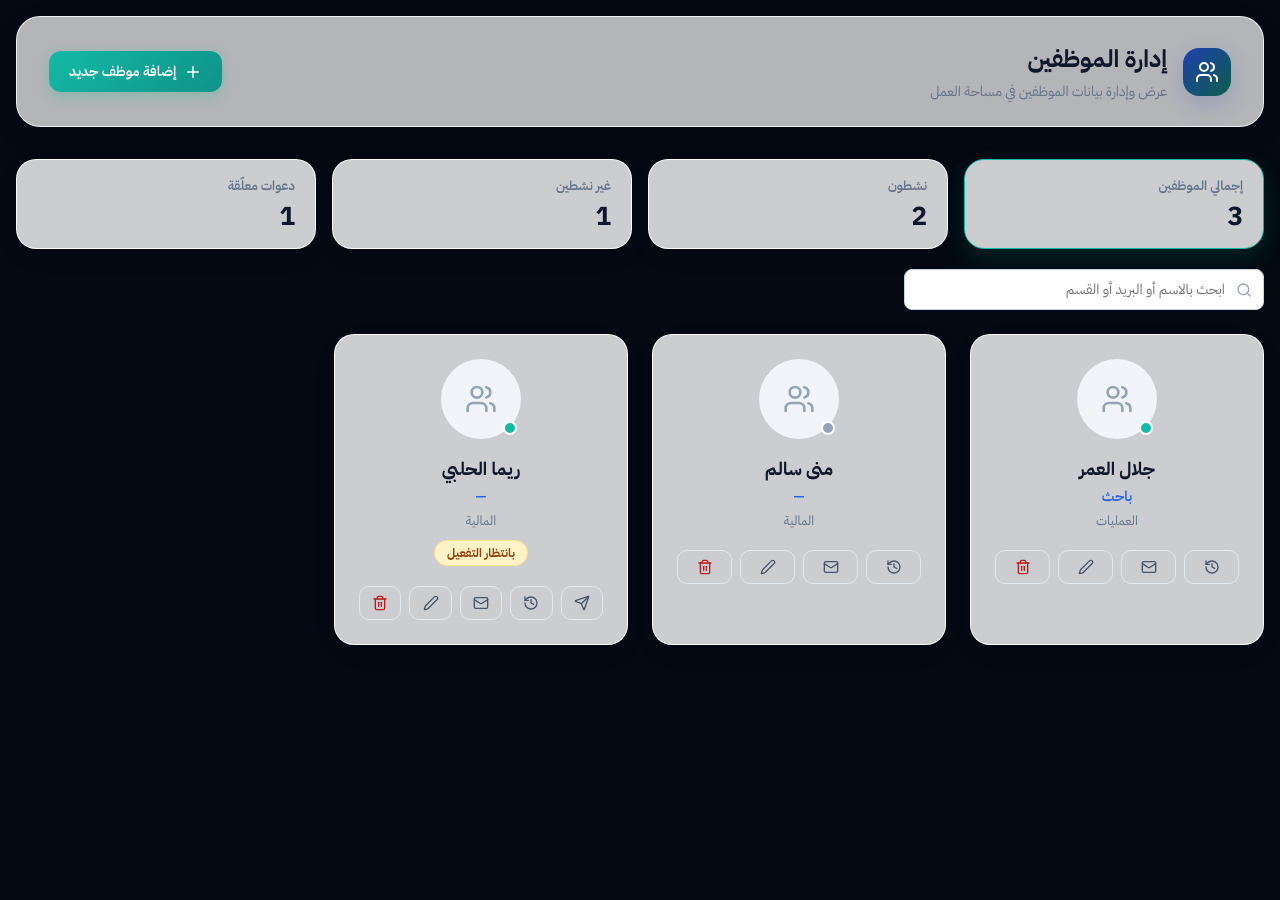
employees: figures and filters › searches by name, e-mail or department and offers a way back when nothing matches
Expected: the heading "جلال العمر" is shown, [1079,455,1155,482]
Type "المالية" into the search field named "بحث في الموظفين" at (1084, 290), box [904,269,1264,310]
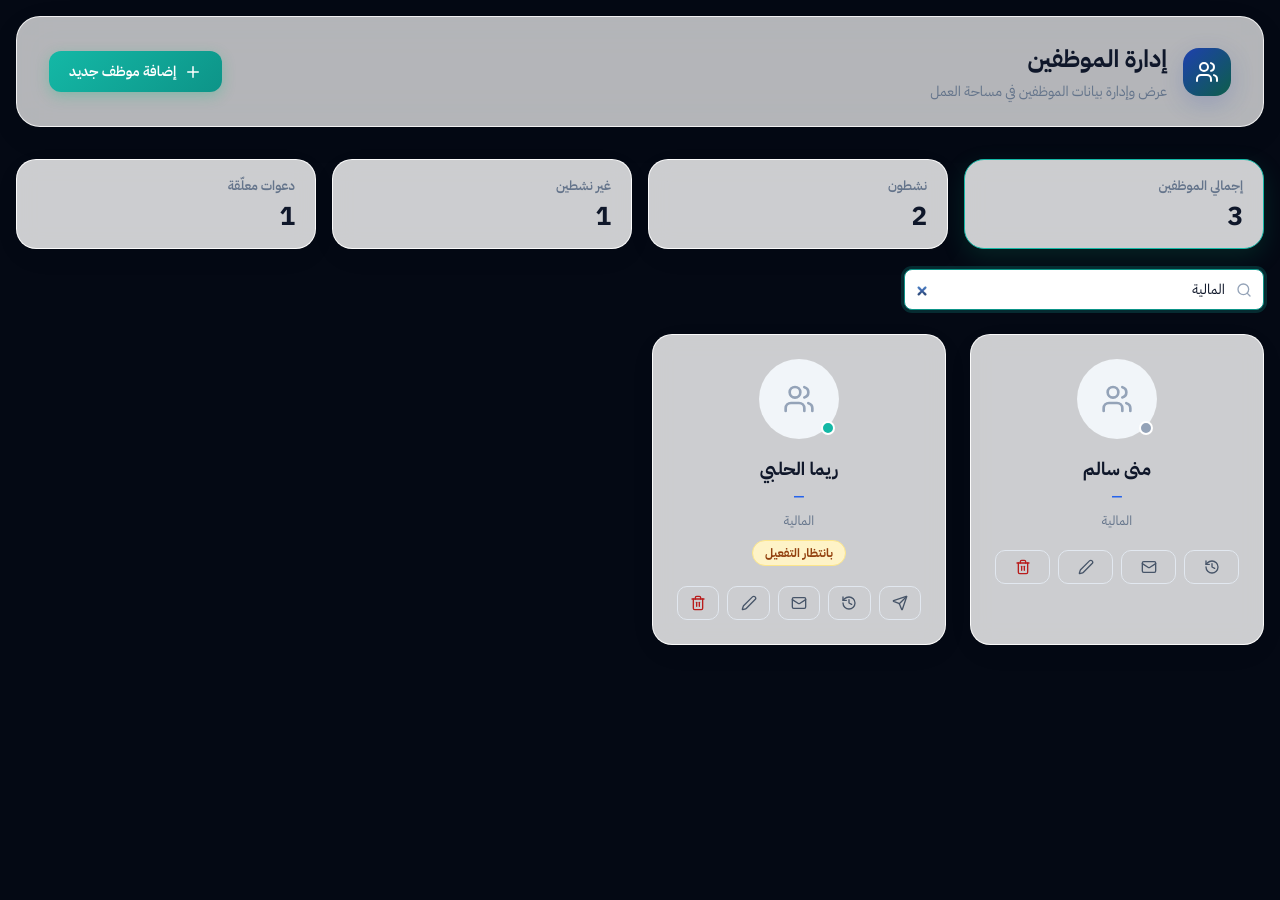
Expected: the heading "منى سالم" is shown, [1083,455,1151,482]
Expected: the heading "جلال العمر" is gone
Replace the text in the search field named "بحث في الموظفين" with "لا أحد" at (1084, 290), box [904,269,1264,310]
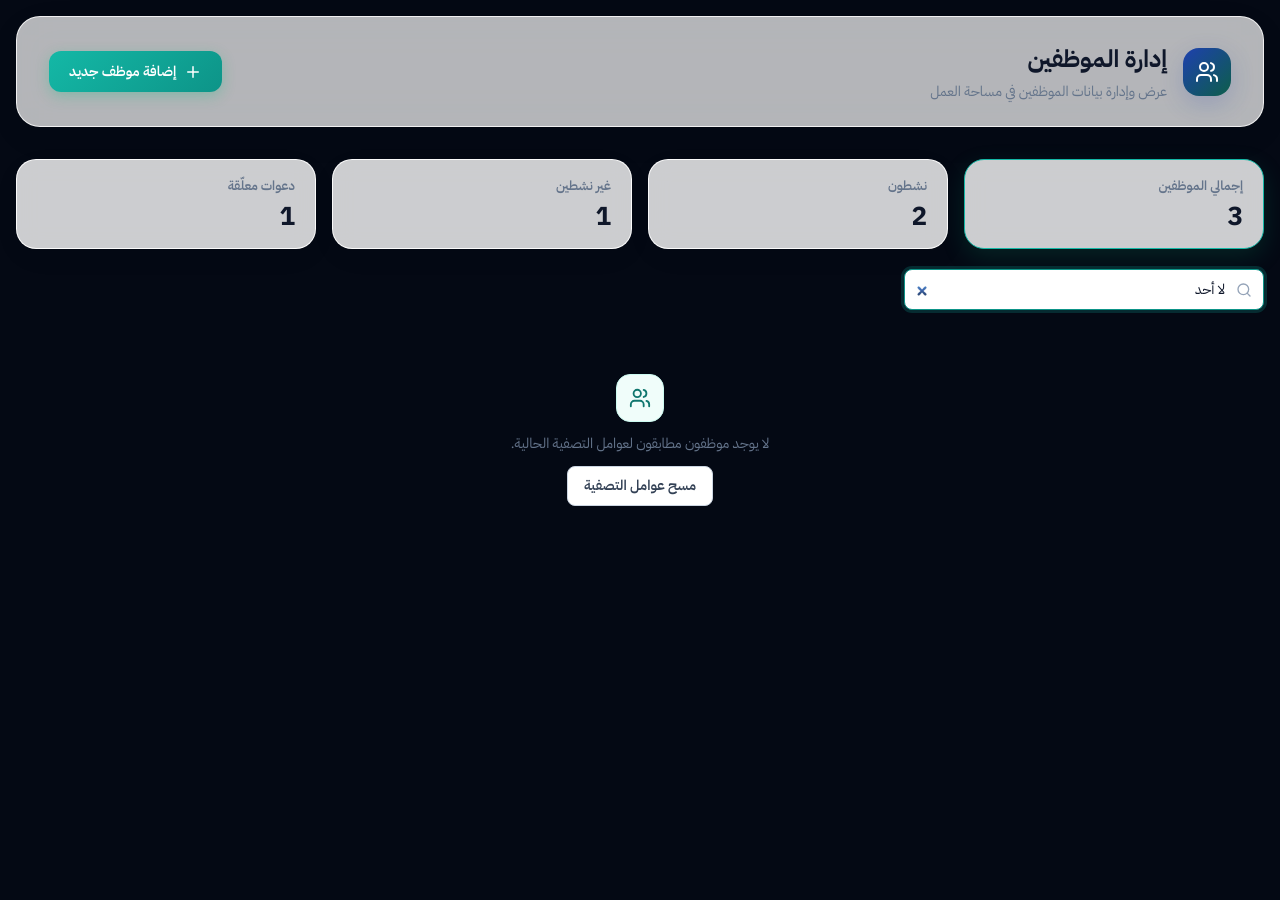
Expected: the text "لا يوجد موظفون مطابقون لعوامل التصفية الحالية." is shown, [511,432,769,456]
Click the button "مسح عوامل التصفية" at (640, 486), box [567,466,713,506]
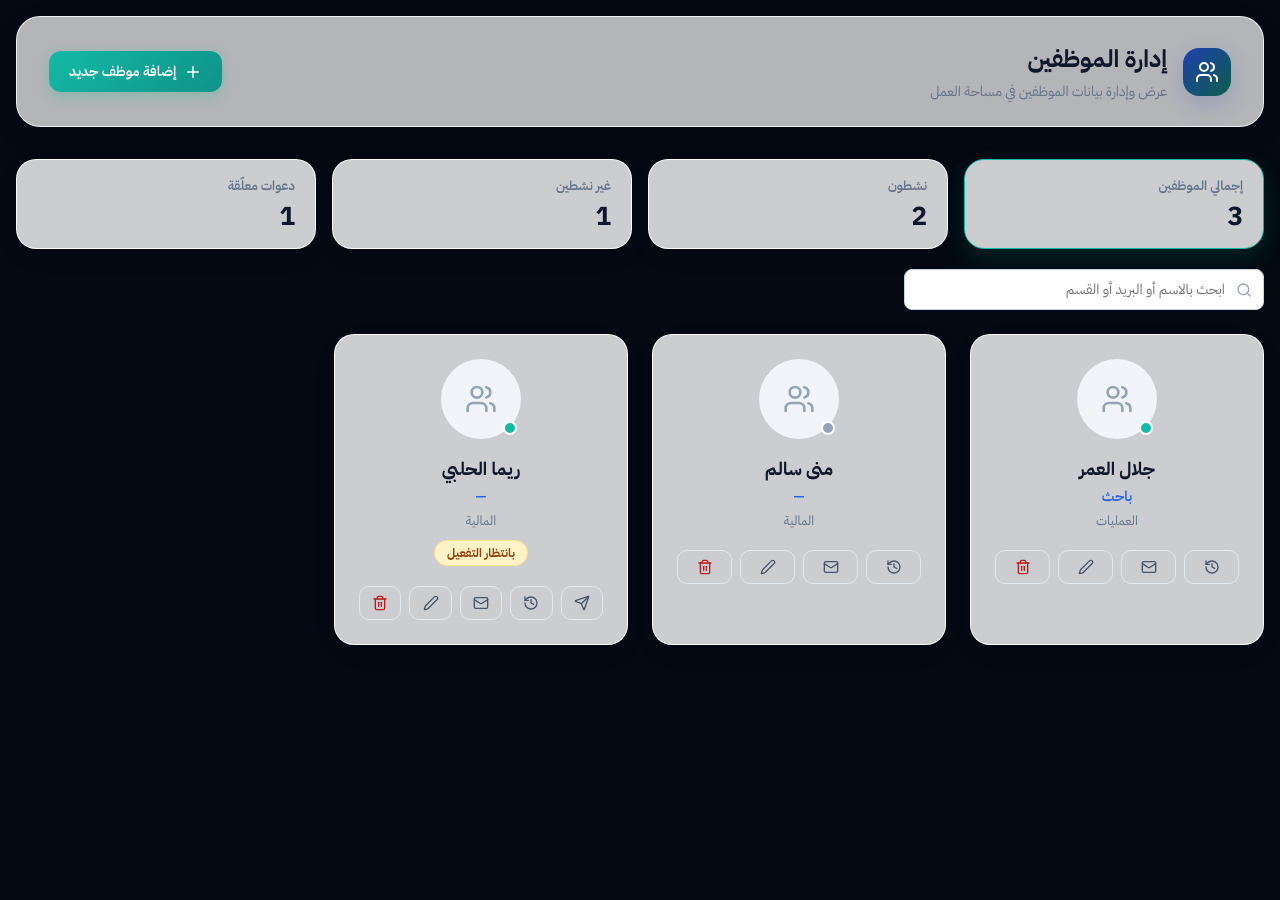
Expected: the heading "جلال العمر" is shown, [1079,455,1155,482]
